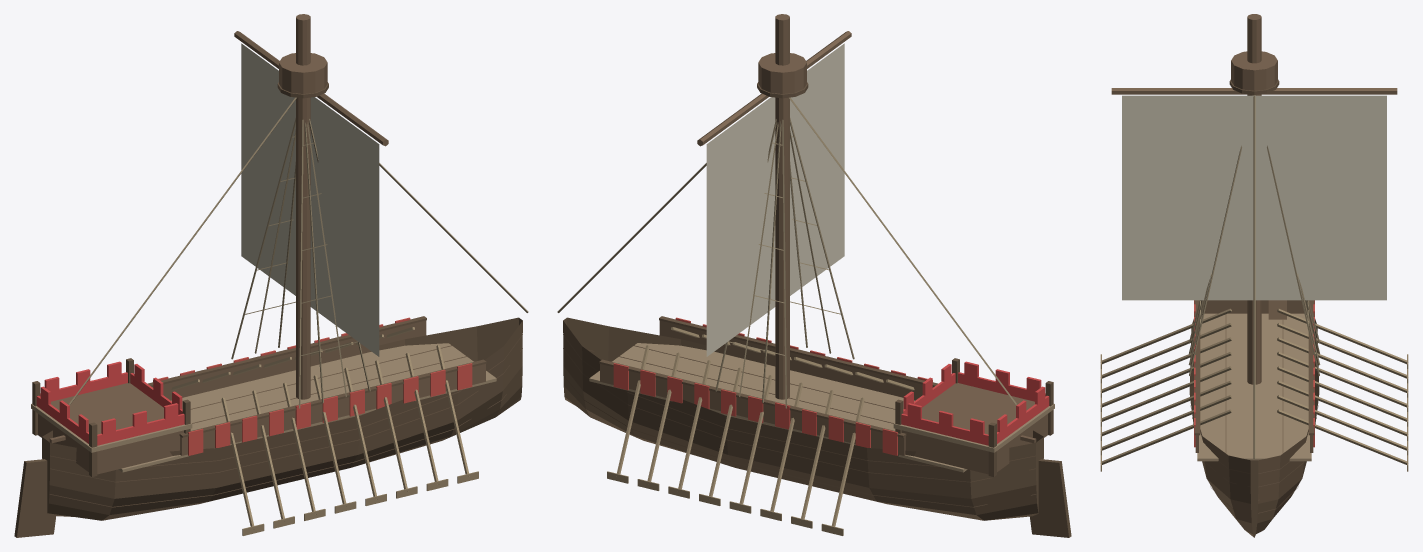
The model's file is barge.glb.
3 renders of one model, left to right at view 1: azimuth 30°, elevation 25°; view 2: azimuth 150°, elevation 25°; view 3: azimuth 270°, elevation 25°, orthographic. The views are drawn at different scales.
Visible parts, largest first — view 1: barge; view 2: barge; view 3: barge.
Part boxes in pixels (left/top/right/bottom): barge: left=14, top=14, right=528, bottom=537; barge: left=557, top=14, right=1071, bottom=537; barge: left=1100, top=14, right=1408, bottom=537.
Bounding box in the file's own units: 21.93 × 18.6 × 11.86.
